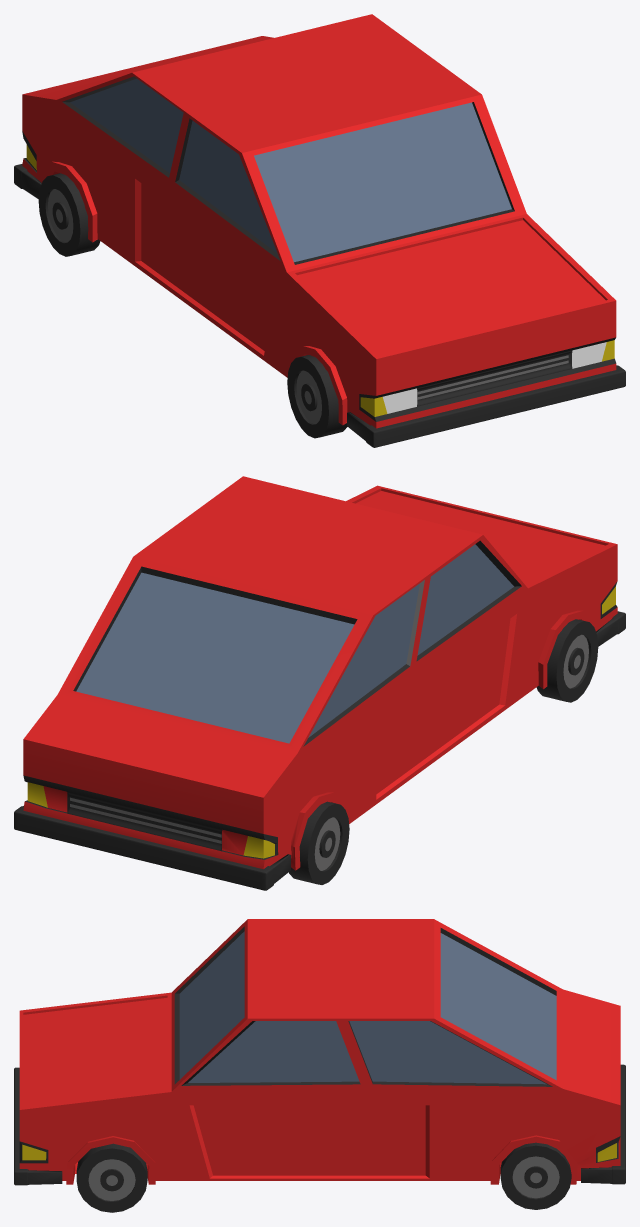
The model's file is Car_Red.fbx.
The picture shows the model from 3 angles, top to bottom: view 1: azimuth 30°, elevation 25°; view 2: azimuth 150°, elevation 25°; view 3: azimuth 270°, elevation 25°; orthographic projection. The views are drawn at different scales.
Parts seen in each view (by area): view 1: Car_Red; view 2: Car_Red; view 3: Car_Red.
Boxes of the visible parts, <box> form: Car_Red: <box>14,14,625,447</box>; Car_Red: <box>14,476,625,890</box>; Car_Red: <box>14,919,625,1212</box>.
Size of the model in its own units: 2.22 by 1.75 by 5.16.
